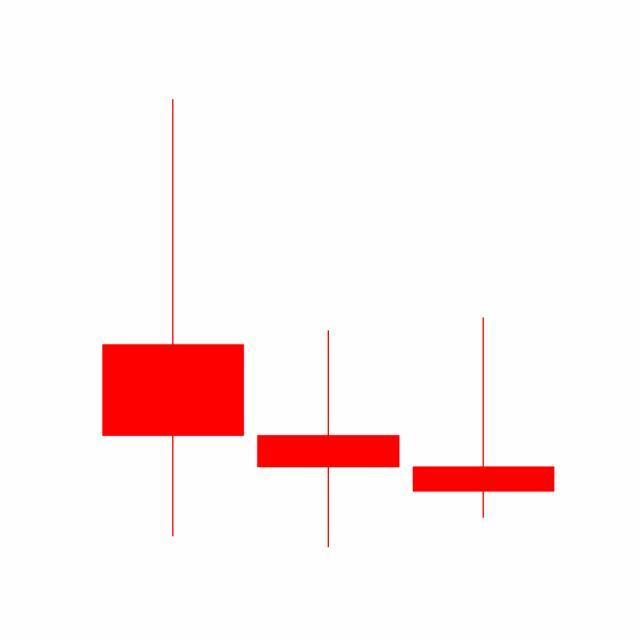Spinning Top: (406, 315, 562, 521)
